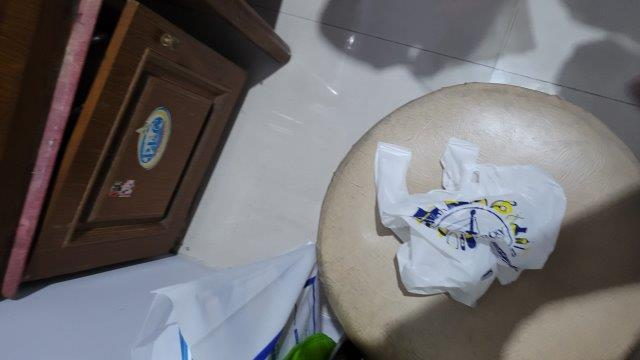plastik: (373, 137, 567, 308)
